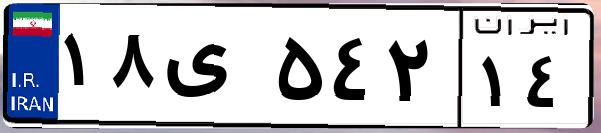1: (57, 26, 110, 100), (475, 38, 525, 113)
2: (385, 28, 445, 110)
4: (330, 28, 385, 110), (525, 38, 570, 115)
5: (270, 28, 330, 110)
8: (110, 28, 158, 98)
ی: (158, 20, 270, 120)
